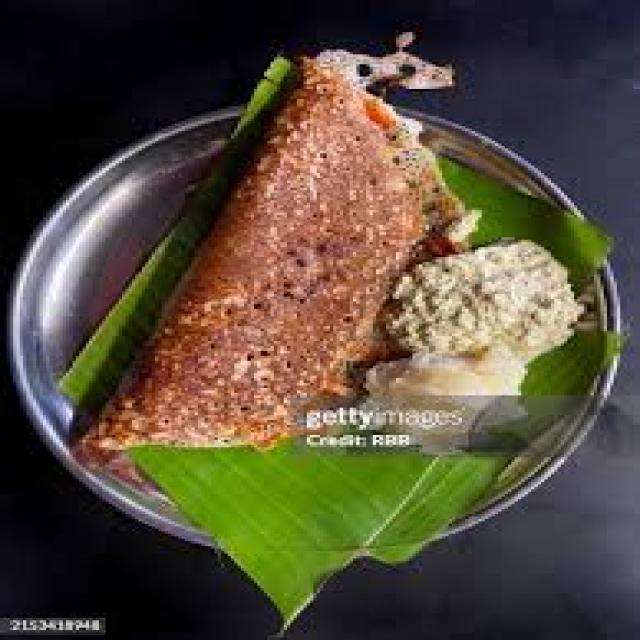DOSA: (84, 59, 440, 448)
